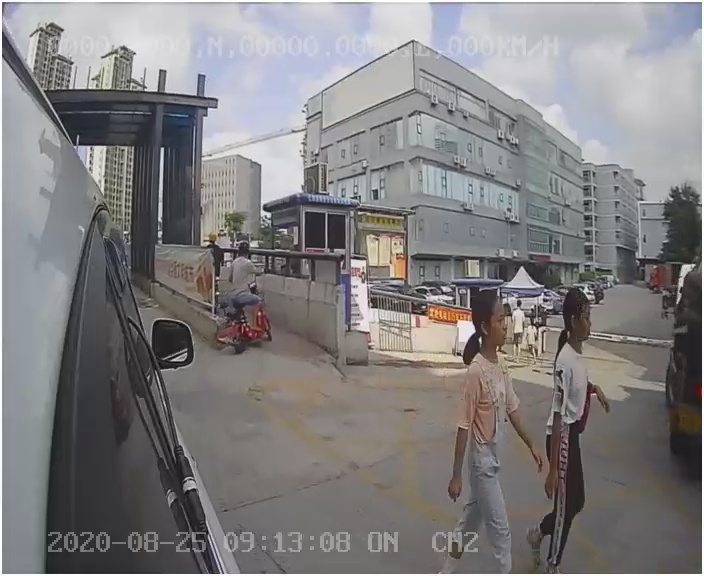person: (419, 293, 540, 557)
